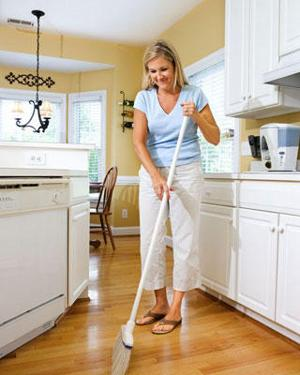person: (130, 38, 222, 338)
